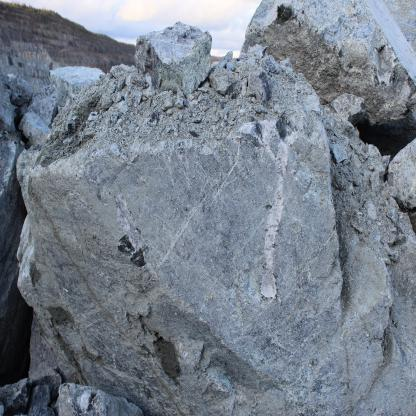stone: (14, 0, 416, 414), (49, 64, 102, 102)
